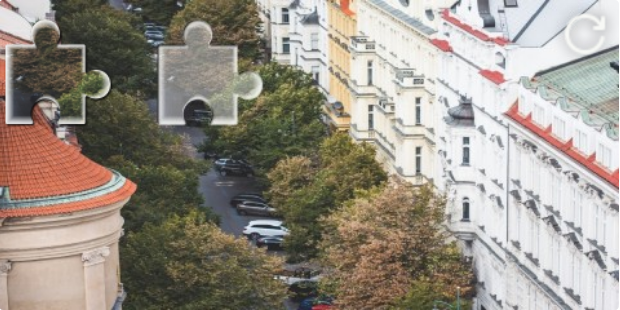target: (158, 20, 262, 125)
